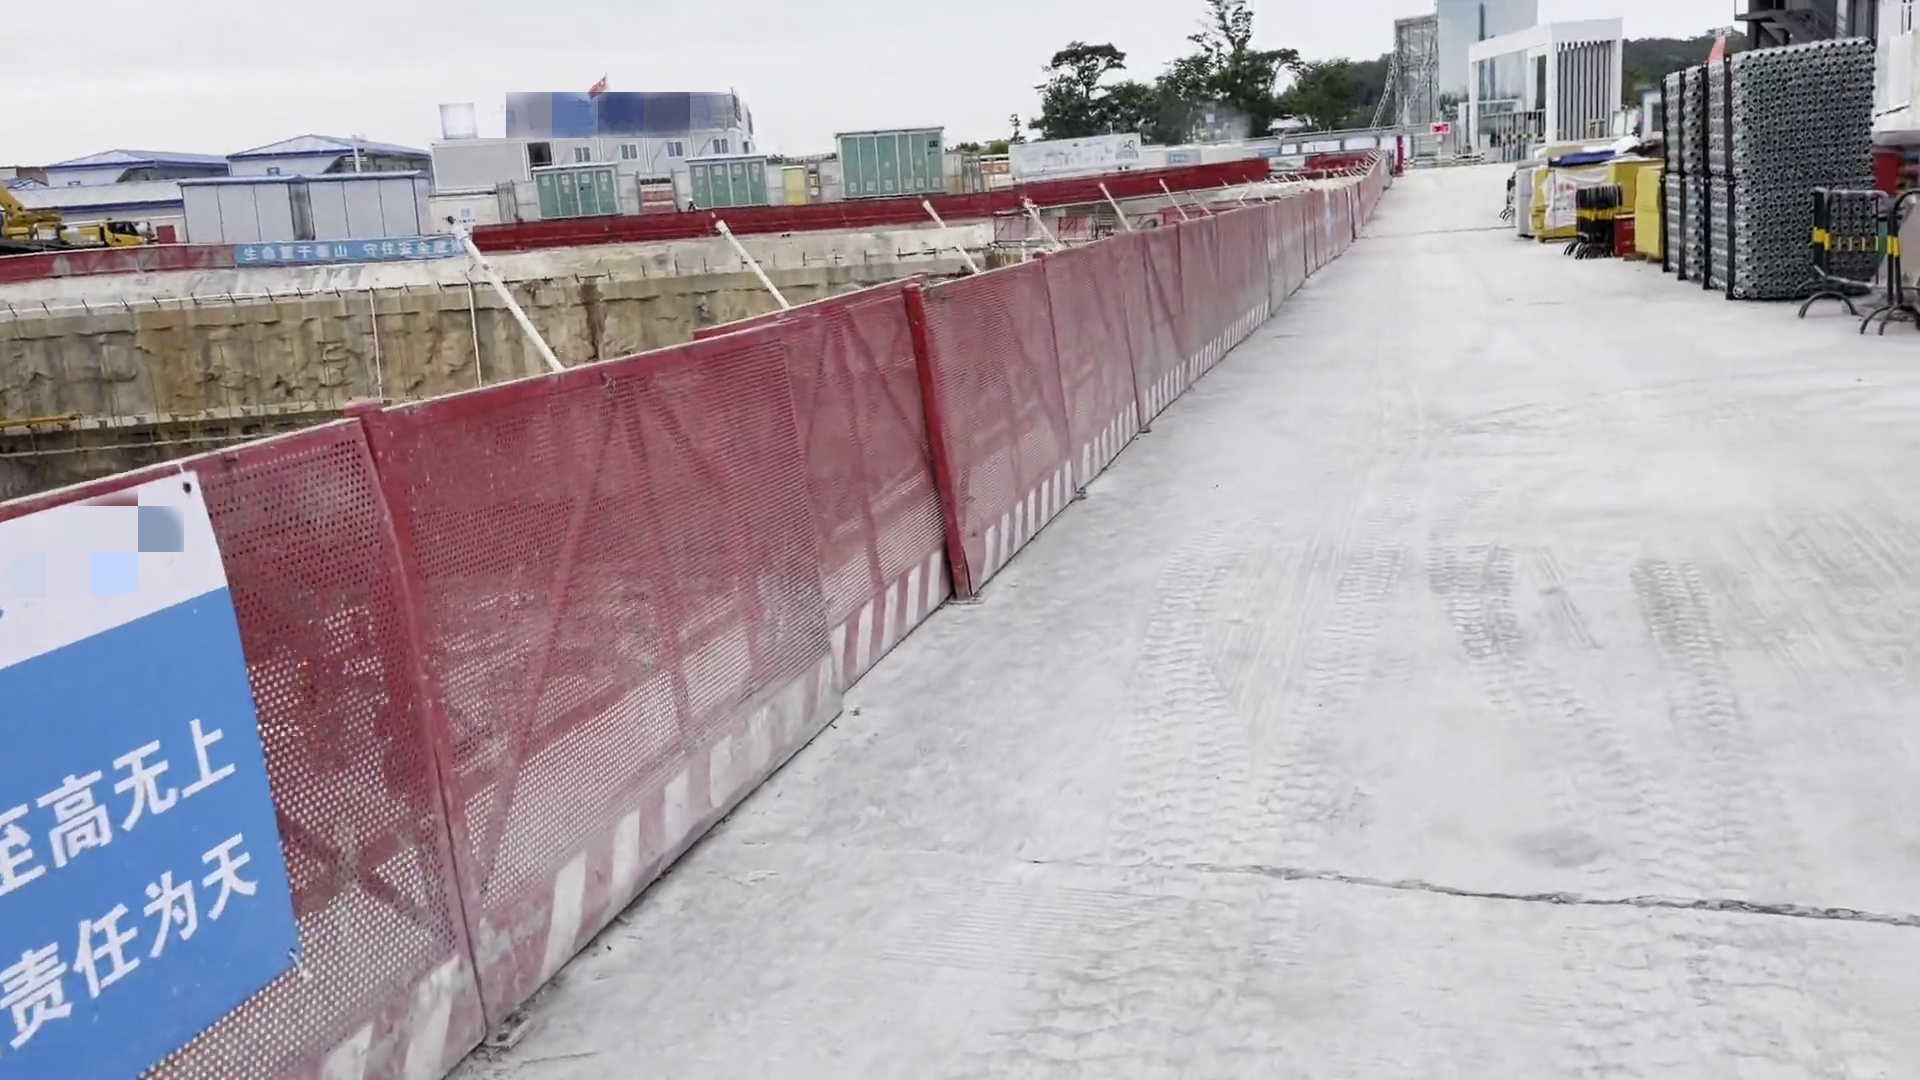fence: (7, 152, 1407, 1076), (7, 149, 1373, 280)
scaffold: (1648, 18, 1888, 324)
slogan: (3, 684, 251, 1080), (233, 233, 476, 266)
